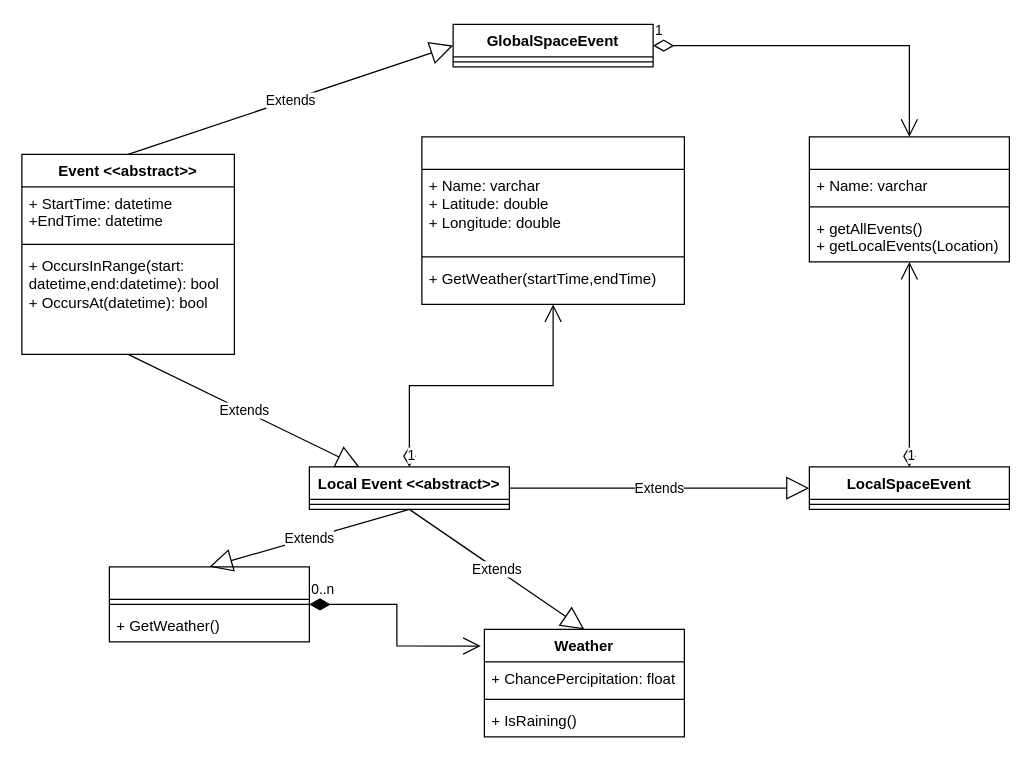
The diagram is 1031 pixels wide and 761 high, and some of its shapes have lost their labels. The shapes that lost their labels are listed below. From the top down, each one's box as (x1, y1, x2, y2) in pixels, then its label:
(808, 136, 1009, 262): Object Of Interest
(421, 136, 684, 304): Location
(108, 566, 309, 642): Night
